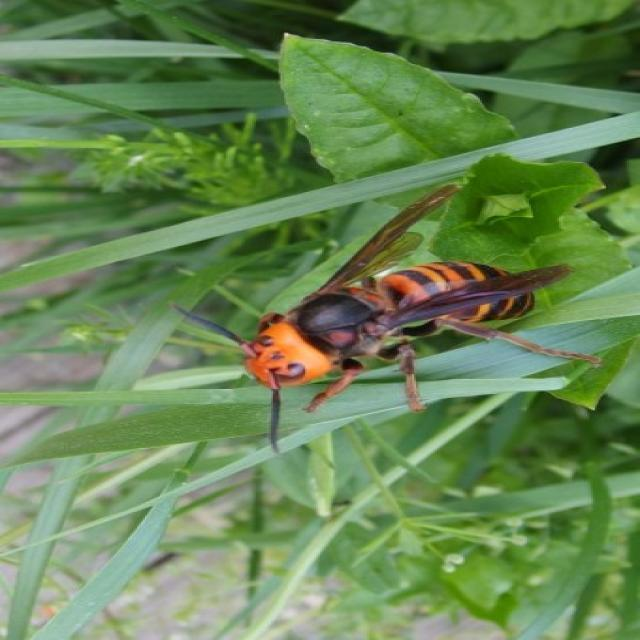Wasp: (202, 180, 604, 420)
